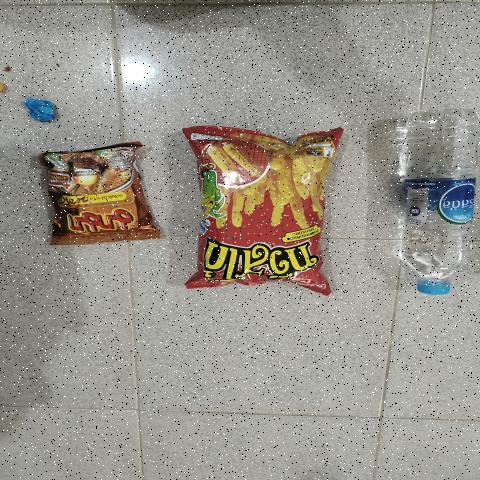crystal: (398, 104, 470, 301)
mama: (53, 150, 138, 238)
twisco: (204, 150, 316, 283)
